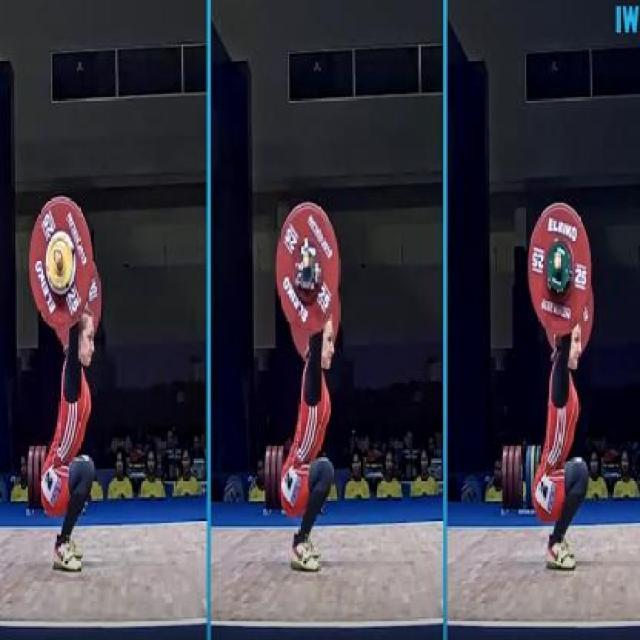Barbell: (50, 242, 64, 272), (552, 248, 565, 276), (300, 245, 312, 272)
